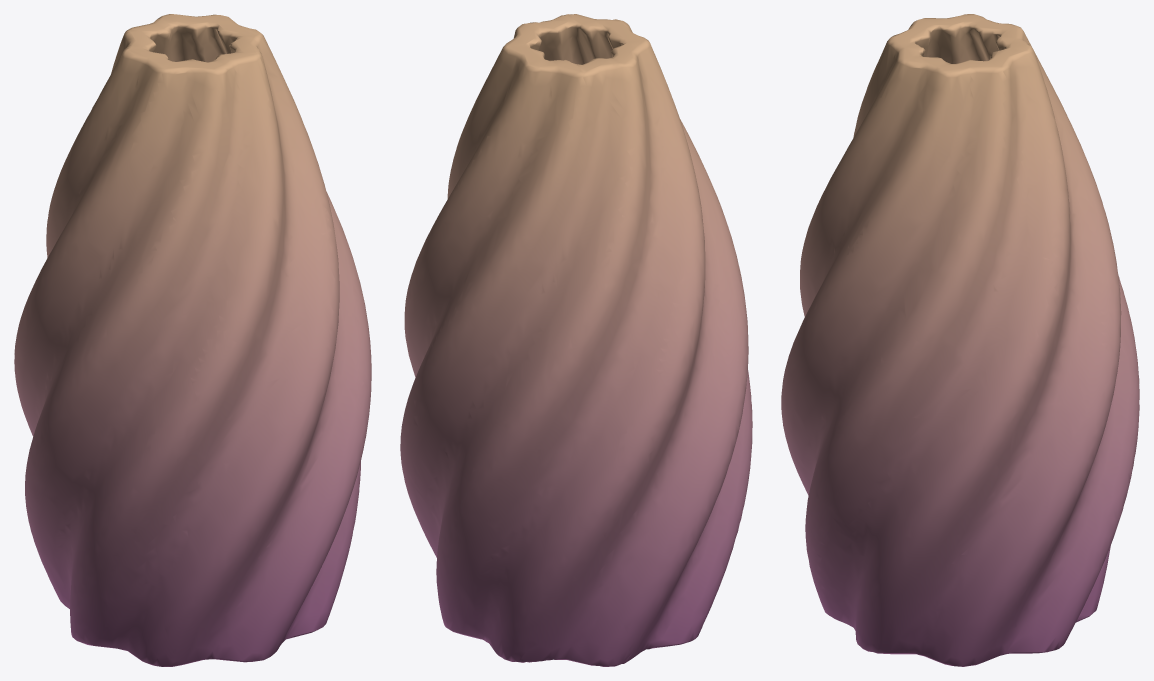
File: vase_24000.glb
3 renders of one model, left to right at view 1: azimuth 30°, elevation 25°; view 2: azimuth 150°, elevation 25°; view 3: azimuth 270°, elevation 25°, orthographic.
Parts seen in each view (by area): view 1: vase_24000; view 2: vase_24000; view 3: vase_24000.
Part boxes in pixels (left/top/right/bottom): vase_24000: left=14, top=14, right=371, bottom=666; vase_24000: left=400, top=14, right=752, bottom=666; vase_24000: left=781, top=14, right=1139, bottom=666.
Bounding box in the file's own units: 0.0529 × 0.0925 × 0.0529.
